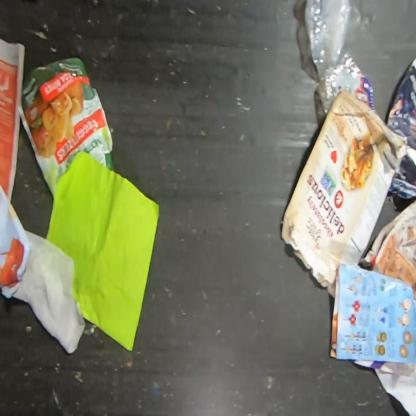cardboard: (281, 89, 408, 287)
rigid_plastic: (304, 0, 363, 116)
soft_plastic: (18, 58, 114, 202)
